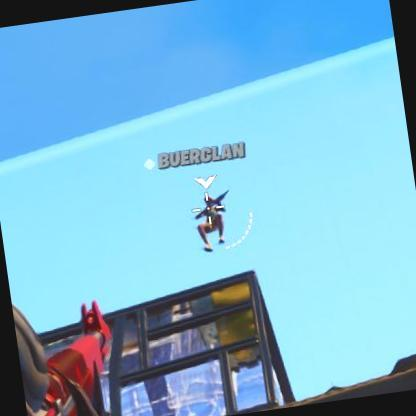person: (193, 193, 232, 250)
